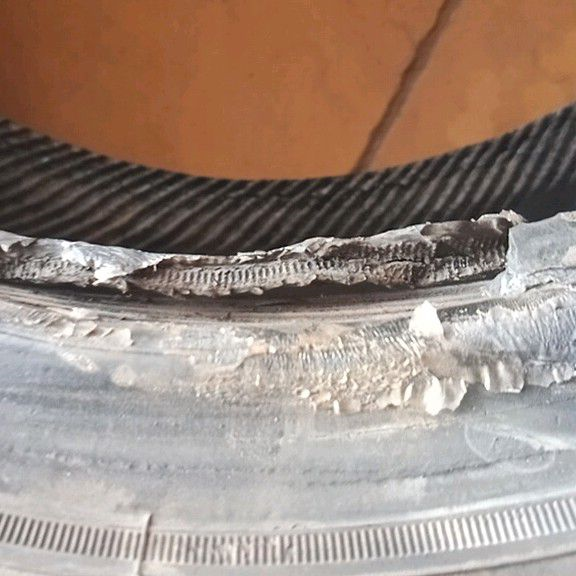bead_damage: (0, 192, 575, 426)
